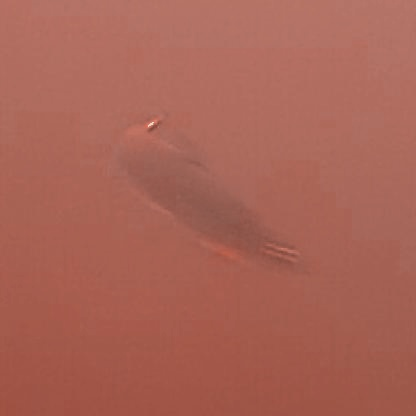salmon: (104, 106, 317, 284)
